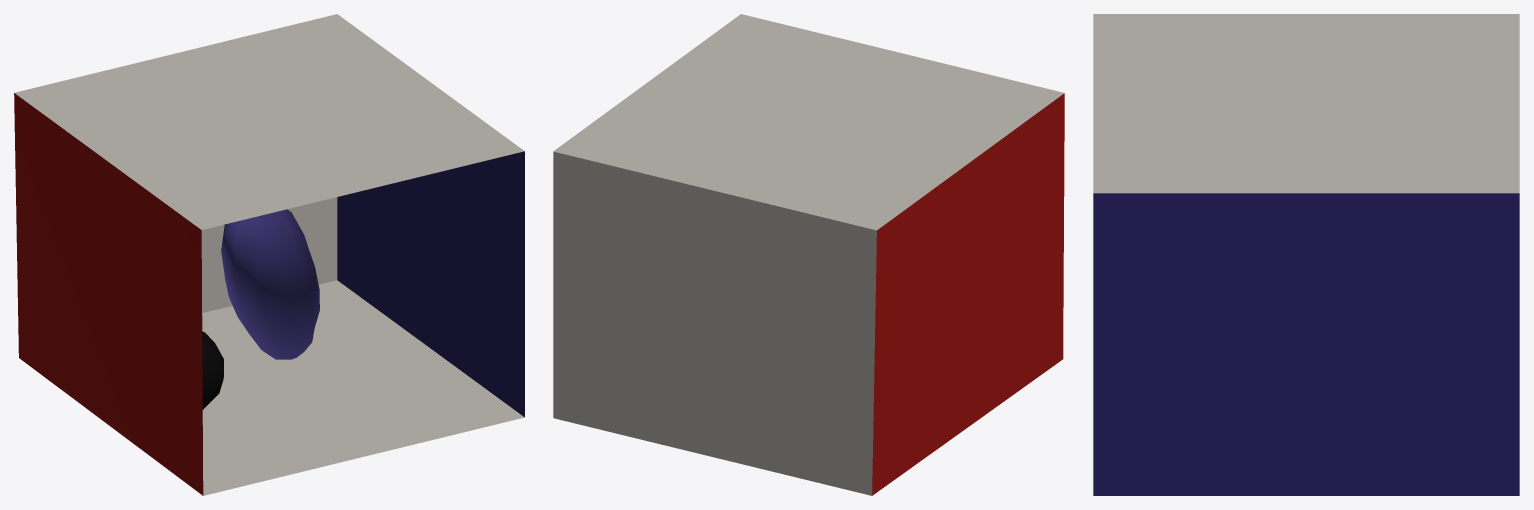
File: CornellBox-Ellipsoid-306.obj
3 renders of one model, left to right at view 1: azimuth 30°, elevation 25°; view 2: azimuth 150°, elevation 25°; view 3: azimuth 270°, elevation 25°, orthographic. The views are drawn at different scales.
Visible parts, largest first — view 1: ceiling, leftWall, floor, rightWall, leftSphere, backWall, rightSphere; view 2: backWall, ceiling, leftWall; view 3: rightWall, ceiling.
Part boxes in pixels (x1=…): ceiling: x1=14, y1=14, x2=524, y2=229; leftWall: x1=14, y1=93, x2=203, y2=495; floor: x1=202, y1=280, x2=524, y2=495; rightWall: x1=337, y1=151, x2=524, y2=417; leftSphere: x1=221, y1=209, x2=319, y2=359; backWall: x1=201, y1=197, x2=337, y2=312; rightSphere: x1=202, y1=331, x2=223, y2=409; backWall: x1=553, y1=151, x2=876, y2=495; ceiling: x1=553, y1=14, x2=1064, y2=230; leftWall: x1=872, y1=93, x2=1064, y2=495; rightWall: x1=1093, y1=193, x2=1519, y2=495; ceiling: x1=1093, y1=14, x2=1519, y2=193.
Size of the model in its own units: 2.02 by 1.59 by 2.03.
